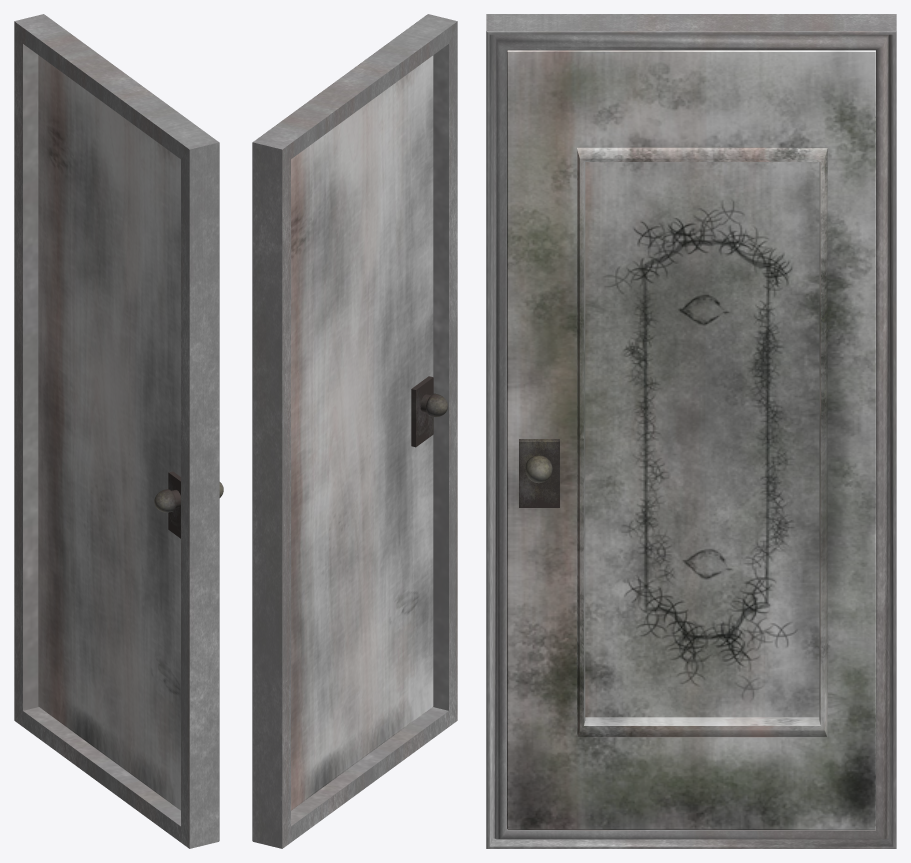
File: door3.glb
3 views of the same model, side by side, from view 1: azimuth 30°, elevation 25°; view 2: azimuth 150°, elevation 25°; view 3: azimuth 270°, elevation 25° (orthographic). The views are drawn at different scales.
Visible parts, largest first — view 1: OP_Door, OP_Door_Frame, OP_Door_handle_01, OP_Door_handle_02; view 2: OP_Door, OP_Door_Frame, OP_Door_handle_02, OP_Door_handle_01; view 3: OP_Door, OP_Door_Frame, OP_Door_handle_02.
Part boxes in pixels (x1,y1,x2,y2): OP_Door: (38,55,180,810); OP_Door_Frame: (14,14,219,848); OP_Door_handle_01: (154,482,223,512); OP_Door_handle_02: (168,471,180,538); OP_Door: (291,55,433,810); OP_Door_Frame: (252,14,457,848); OP_Door_handle_02: (411,376,433,447); OP_Door_handle_01: (420,393,447,417); OP_Door: (507,50,875,829); OP_Door_Frame: (486,14,896,848); OP_Door_handle_02: (519,439,559,507).
Bounding box in the file's own units: 0.2121 × 2.12 × 0.9643.
Materials: 3 (3 with a texture image).
